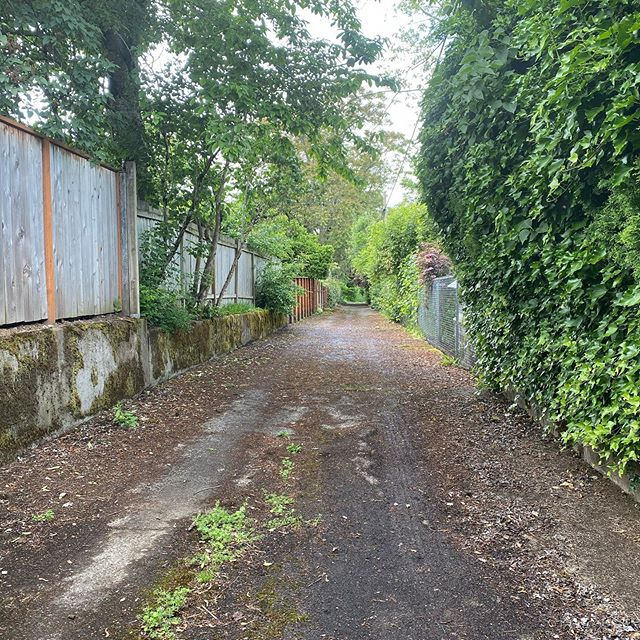road: (1, 315, 572, 640)
vegetation: (405, 4, 640, 476), (1, 1, 335, 300)
